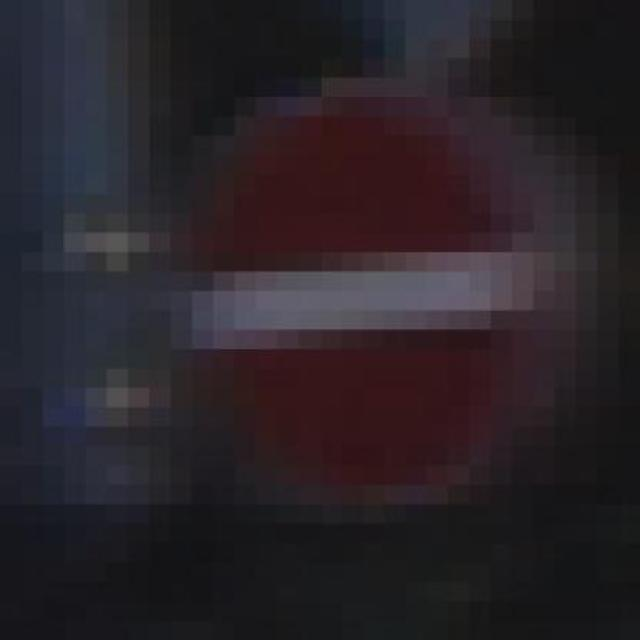No Entry: (107, 77, 598, 505)
